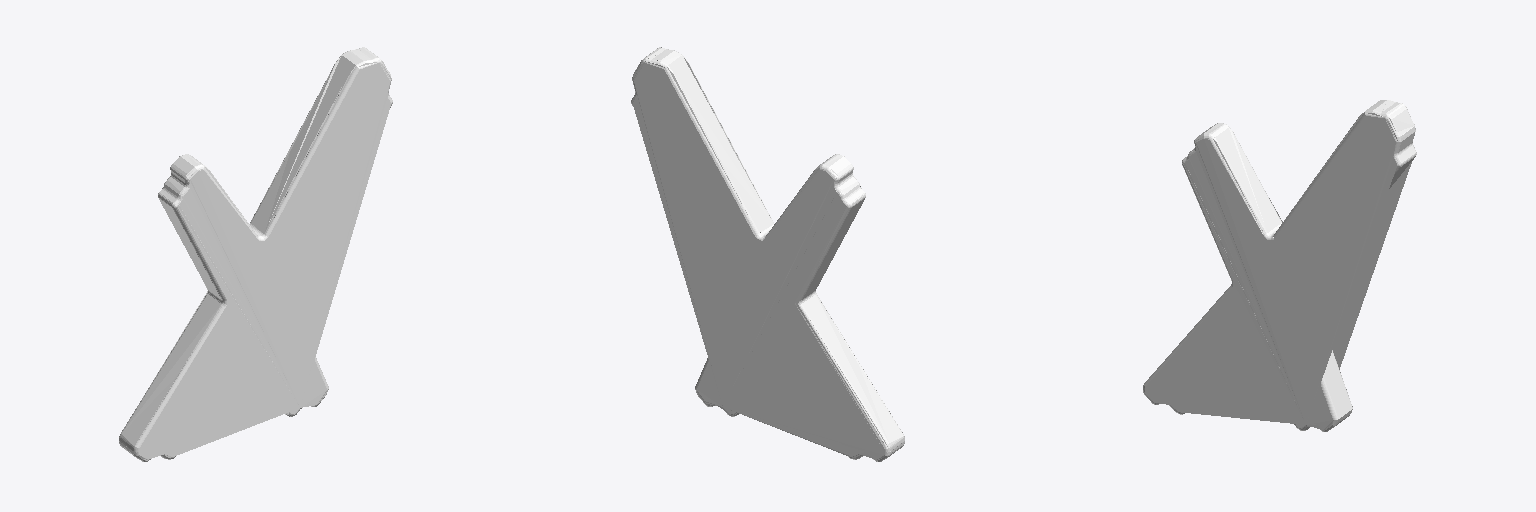
The model's file is cross.obj.
3 views of the same model, side by side, from view 1: azimuth 30°, elevation 25°; view 2: azimuth 150°, elevation 25°; view 3: azimuth 330°, elevation 25° (orthographic).
Visible parts, largest first — view 1: cross.001; view 2: cross.001; view 3: cross.001.
Part boxes in pixels (x1,y1,x2,y2): cross.001: (119, 47, 392, 461); cross.001: (631, 47, 904, 461); cross.001: (1143, 100, 1416, 431).
Size of the model in its own units: 41.04 by 53.21 by 5.